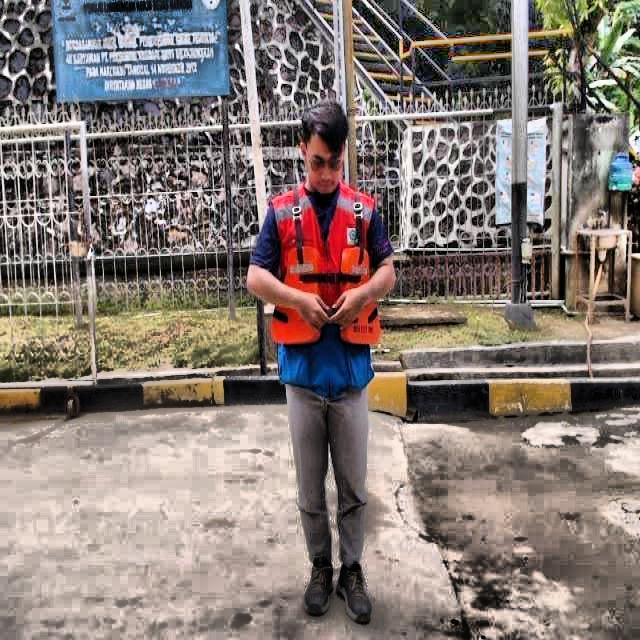safety_jacket: (273, 184, 378, 388)
